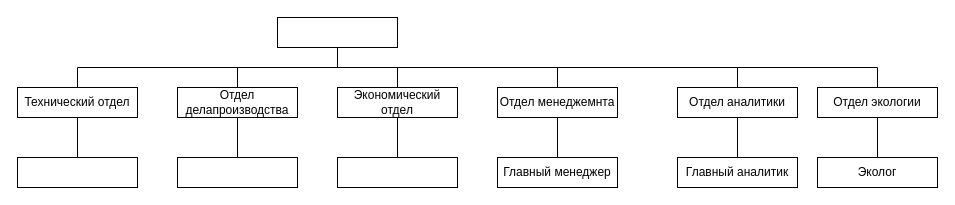
Image size: 955x205. Some labels were removed from this diagram. The shapes that lost their labels are listed below. From the top down, each one's centre as x and y in pixels, then its label:
[337,32]: Администрация
[77,172]: Главный инженер
[237,172]: Главный документовед
[397,172]: Бухгалтерия
